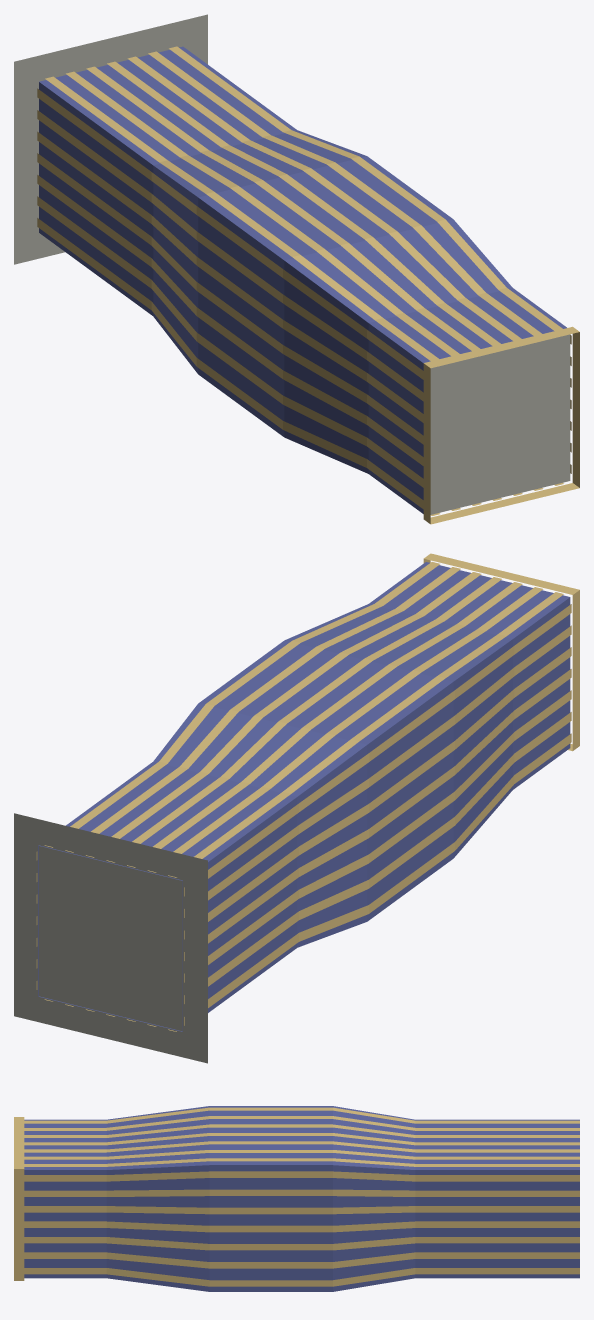
Rendered from complete.glb.
3 renders of one model, top to bottom at view 1: azimuth 30°, elevation 25°; view 2: azimuth 150°, elevation 25°; view 3: azimuth 270°, elevation 25°, orthographic. The views are drawn at different scales.
Parts seen in each view (by area): view 1: complete; view 2: complete; view 3: complete.
Part boxes in pixels (bbox=[...]): complete: bbox=[14, 14, 579, 524]; complete: bbox=[14, 553, 579, 1063]; complete: bbox=[14, 1106, 579, 1291].
Size of the model in its own units: 15.6 by 15.6 by 55.
